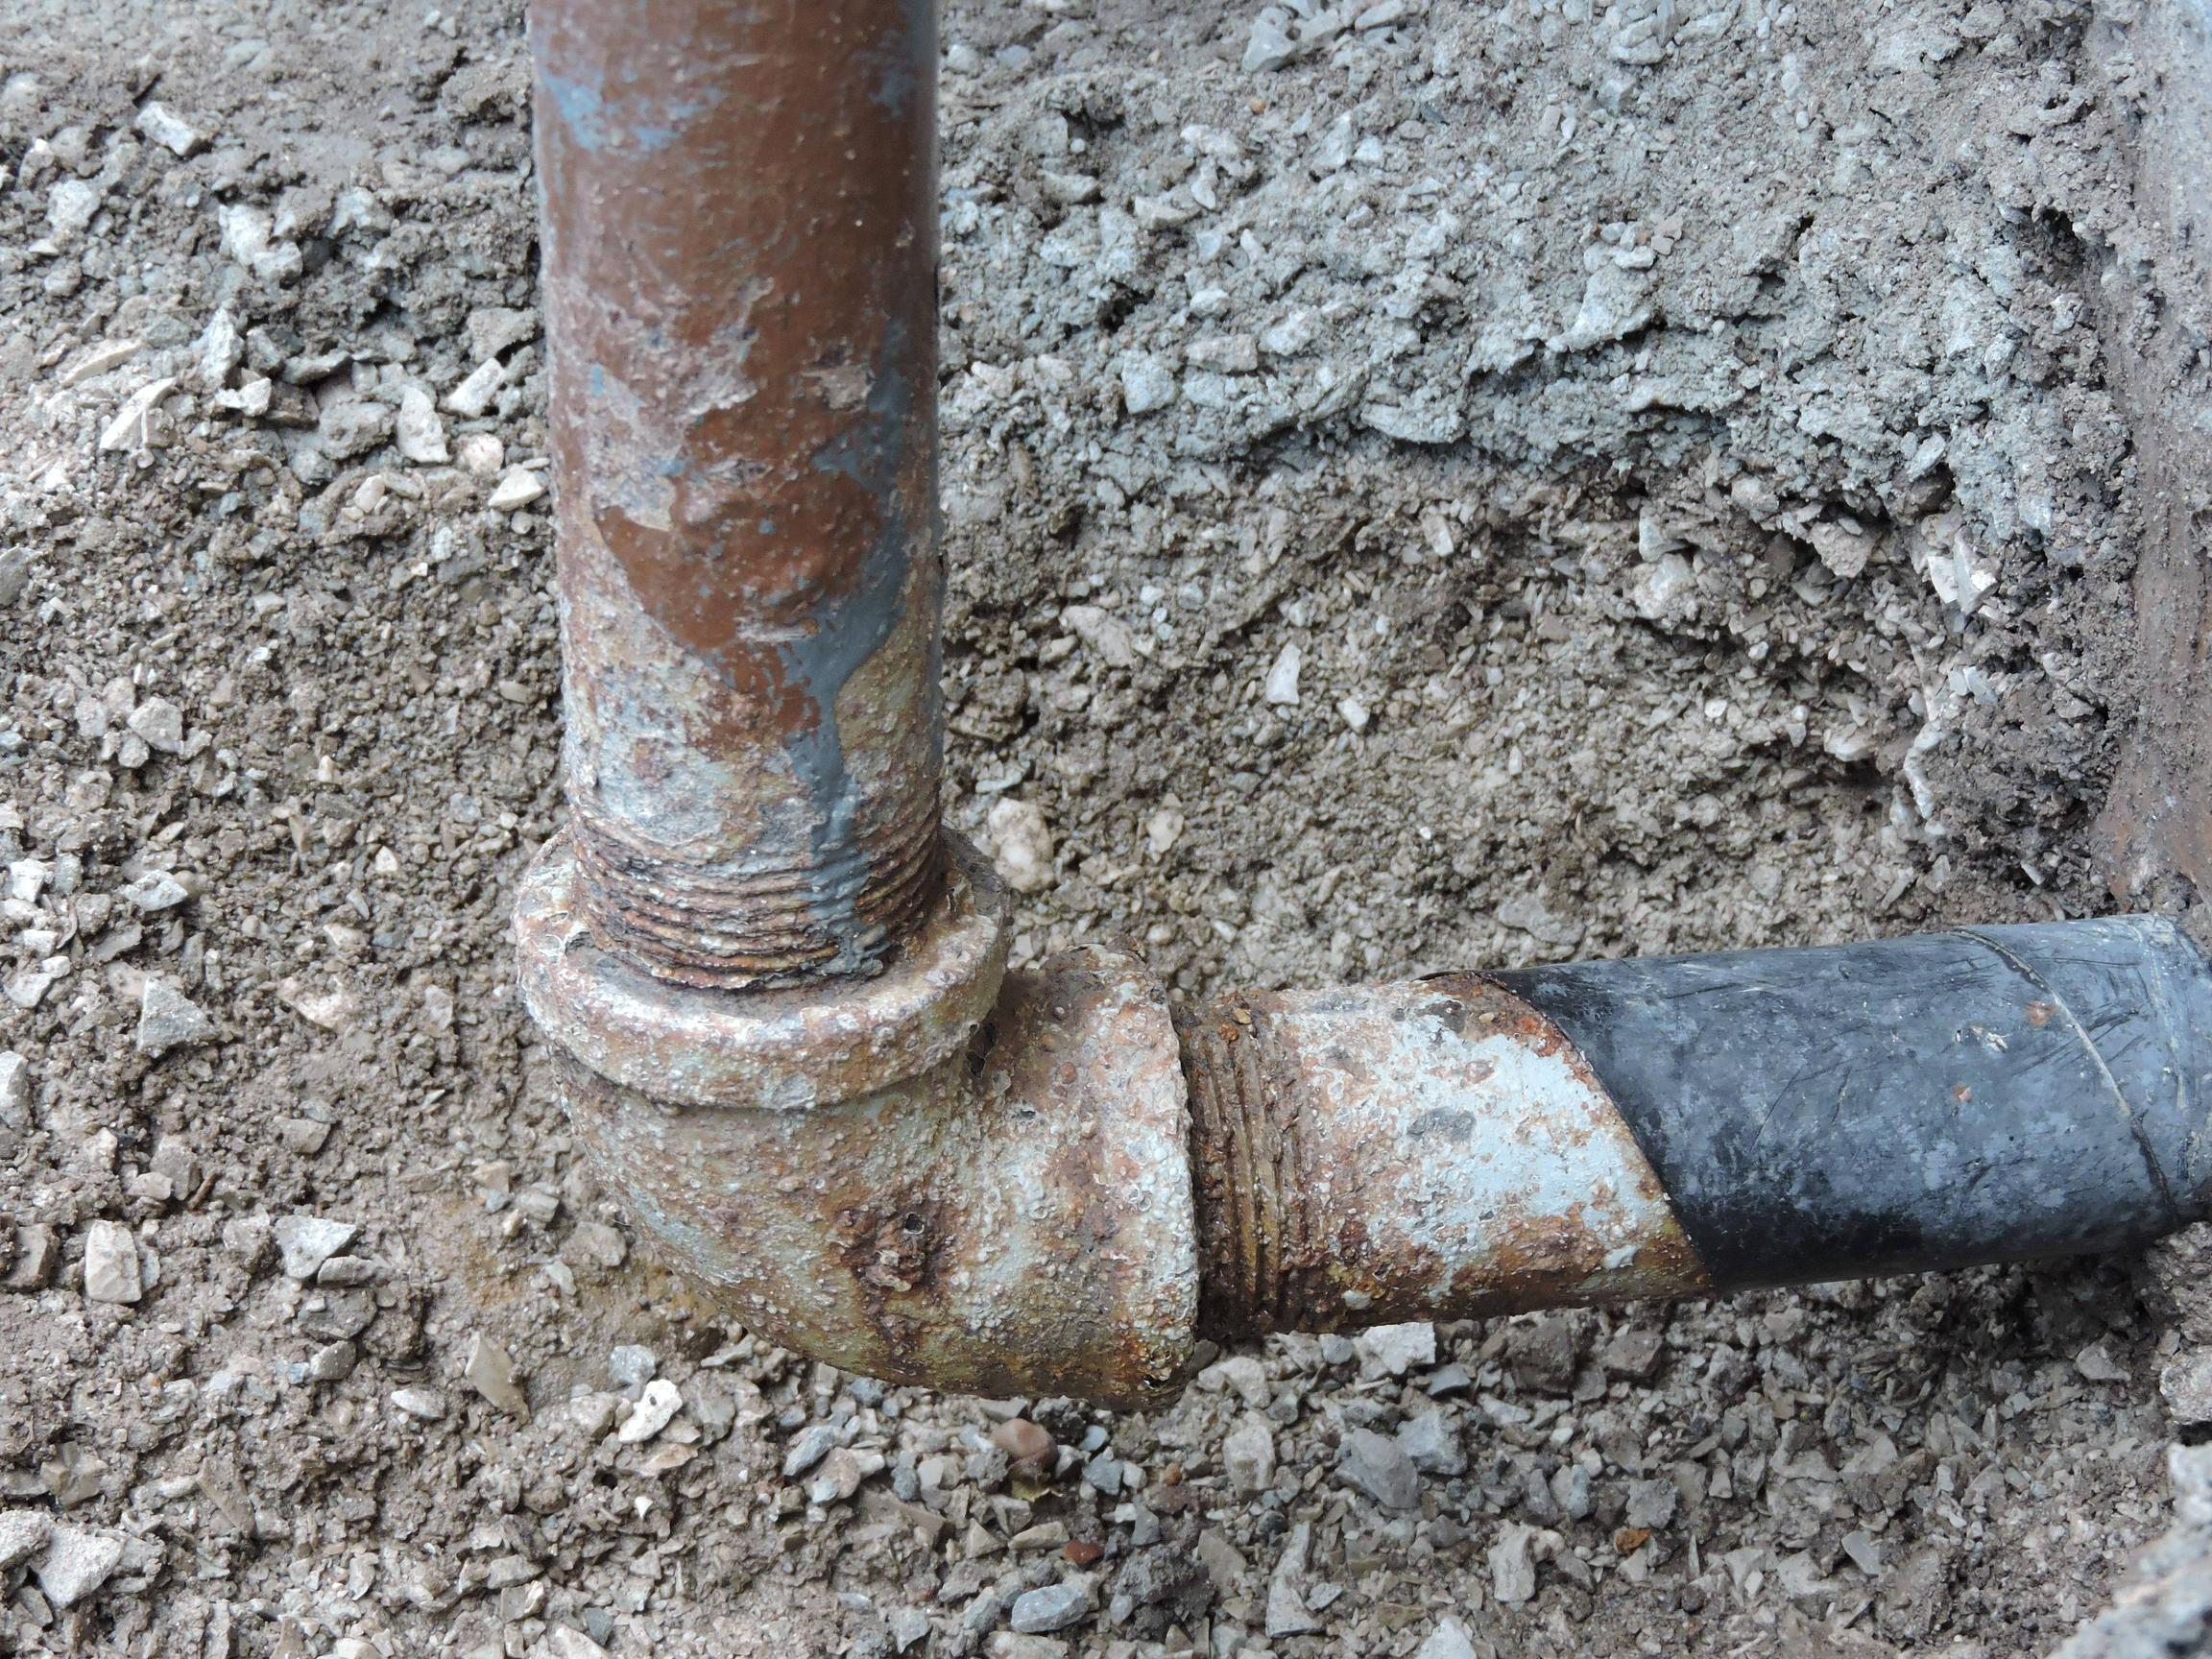Moderate: (526, 5, 1014, 1058), (503, 945, 1256, 1415), (1139, 965, 1695, 1347)
